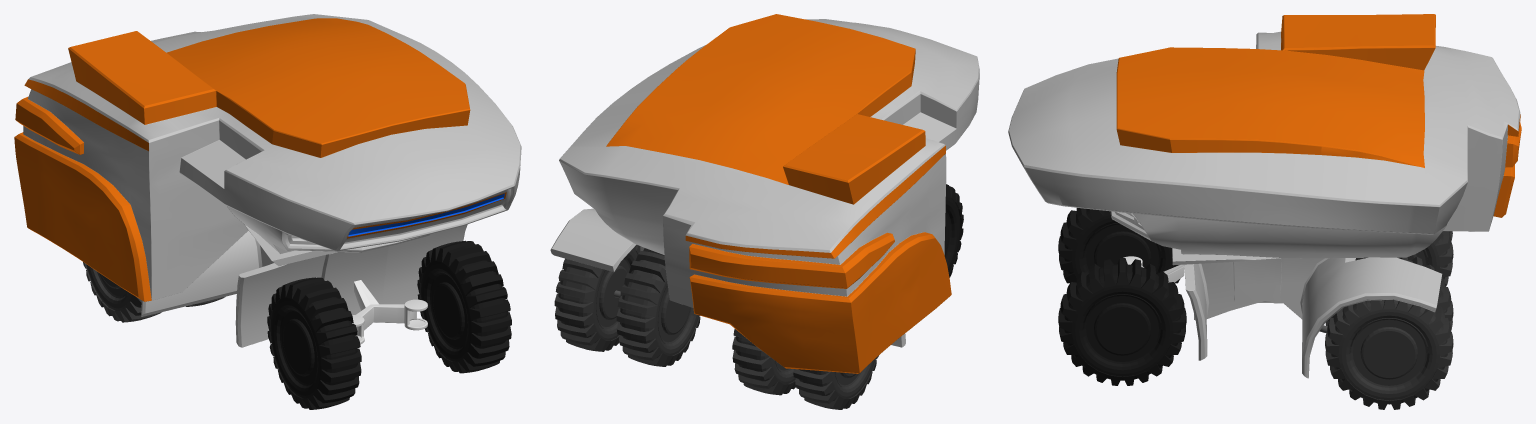
The model's file is vehicle.mathilda.me.fbx.
3 renders of one model, left to right at view 1: azimuth 30°, elevation 25°; view 2: azimuth 150°, elevation 25°; view 3: azimuth 270°, elevation 25°, orthographic. The views are drawn at different scales.
Parts seen in each view (by area): view 1: mayacarexport, Cube.013, Cube.008, Cylinder.013, Cube.006; view 2: mayacarexport, Cube.003, Cube.002, Cube.006, Cube.004, Cube.013; view 3: mayacarexport, Cube.008, Cube.002, Cube.013, Cube.004, Cube.003.
Boxes of the visible parts, <box> form: mayacarexport: <box>14,14,521,347</box>; Cube.013: <box>267,277,361,409</box>; Cube.008: <box>417,240,511,373</box>; Cylinder.013: <box>352,280,427,344</box>; Cube.006: <box>83,262,161,322</box>; mayacarexport: <box>550,14,979,373</box>; Cube.003: <box>616,248,700,366</box>; Cube.002: <box>554,244,640,351</box>; Cube.006: <box>793,355,878,409</box>; Cube.004: <box>732,329,795,395</box>; Cube.013: <box>944,184,963,277</box>; mayacarexport: <box>1008,14,1521,378</box>; Cube.008: <box>1058,258,1186,385</box>; Cube.002: <box>1325,299,1453,409</box>; Cube.013: <box>1058,208,1179,283</box>; Cube.004: <box>1355,231,1453,286</box>; Cube.003: <box>1325,256,1453,329</box>.
Bounding box in the file's own units: 964 × 706 × 1271.
